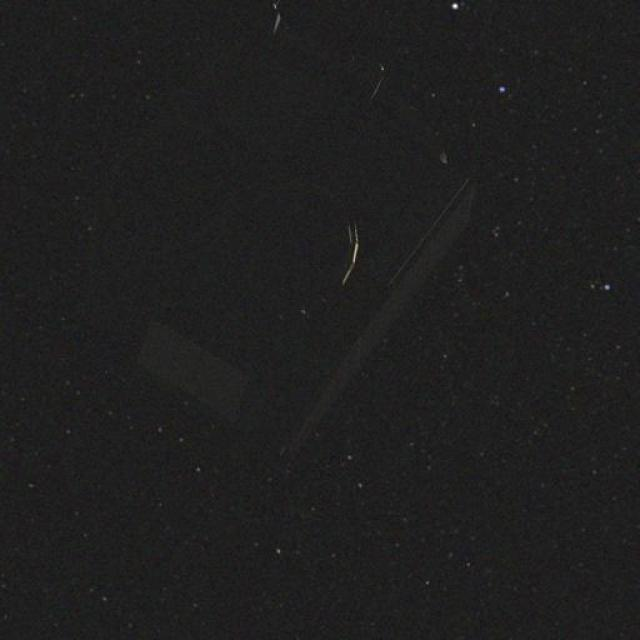cheops: (73, 88, 494, 467)
